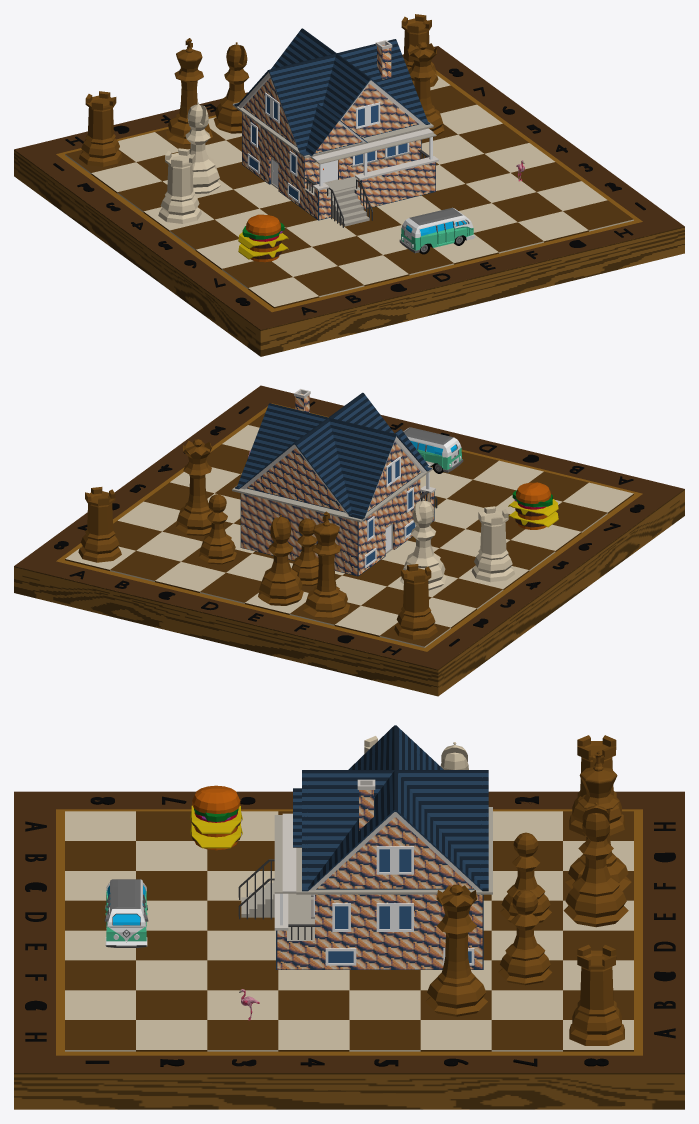
3 renders of one model, top to bottom at view 1: azimuth 30°, elevation 25°; view 2: azimuth 150°, elevation 25°; view 3: azimuth 270°, elevation 25°, orthographic. The views are drawn at different scales.
Visible parts, largest first — view 1: Cube.002, Cube.430, VEHICLES_VAN, OBJRANDOM_HAMBURGER; view 2: Cube.002, Cube.430, OBJRANDOM_HAMBURGER, VEHICLES_VAN; view 3: Cube.002, Cube.430, OBJRANDOM_HAMBURGER, VEHICLES_VAN.
Part boxes in pixels (box(x1,y1,x2,y2)): Cube.002: box(14, 14, 684, 356); Cube.430: box(232, 28, 438, 227); VEHICLES_VAN: box(399, 207, 475, 254); OBJRANDOM_HAMBURGER: box(238, 214, 288, 262); Cube.002: box(14, 385, 684, 696); Cube.430: box(232, 389, 437, 576); OBJRANDOM_HAMBURGER: box(508, 482, 558, 529); VEHICLES_VAN: box(403, 427, 463, 473); Cube.002: box(14, 735, 684, 1109); Cube.430: box(238, 725, 492, 969); OBJRANDOM_HAMBURGER: box(190, 785, 242, 850); VEHICLES_VAN: box(104, 879, 148, 947).
Size of the model in its own units: 3981 by 1484 by 4012.
41 materials, 3 textured.
